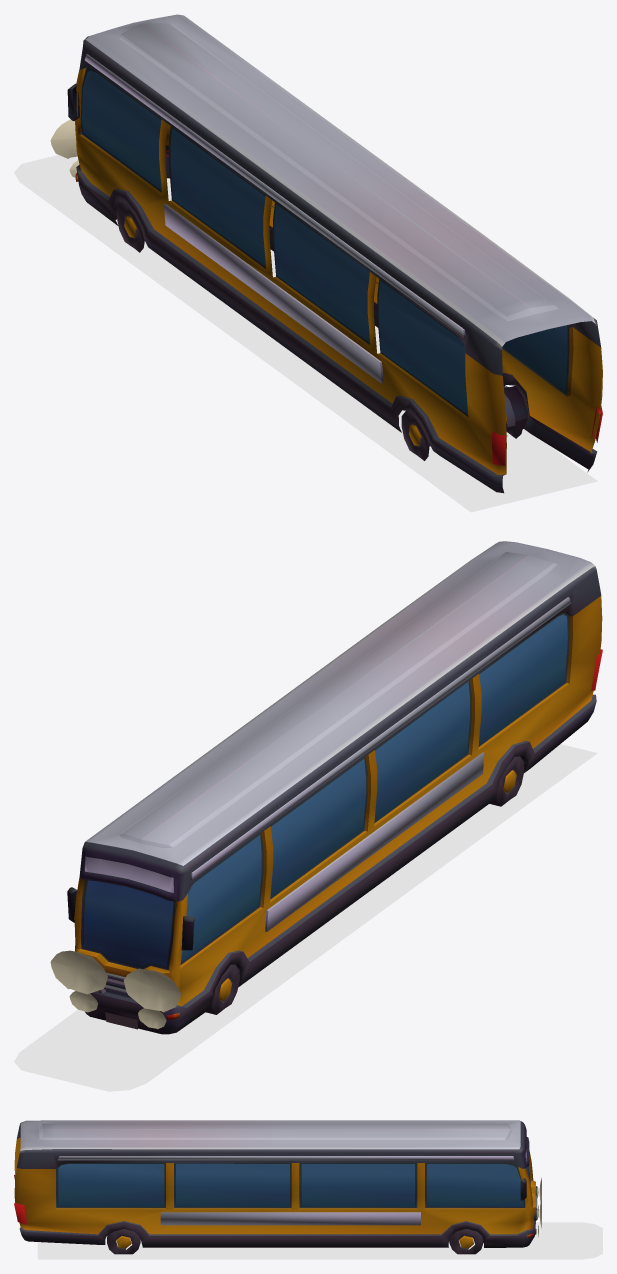
The model's file is City_Double8_Bus01.fbx.
3 renders of one model, top to bottom at view 1: azimuth 30°, elevation 25°; view 2: azimuth 150°, elevation 25°; view 3: azimuth 270°, elevation 25°, orthographic. The views are drawn at different scales.
Visible parts, largest first — view 1: city_double8_bus01, busShadow, busLights; view 2: city_double8_bus01, busShadow, busLights; view 3: city_double8_bus01, busShadow.
Boxes of the visible parts, x1,y1,x2,y2 form: city_double8_bus01: (67, 14, 602, 493); busShadow: (14, 155, 597, 512); busLights: (50, 119, 79, 177); city_double8_bus01: (67, 541, 602, 1034); busShadow: (14, 744, 597, 1091); busLights: (50, 950, 180, 1029); city_double8_bus01: (14, 1120, 537, 1254); busShadow: (37, 1222, 602, 1259).
Bounding box in the file's own units: 137 × 190 × 887.
